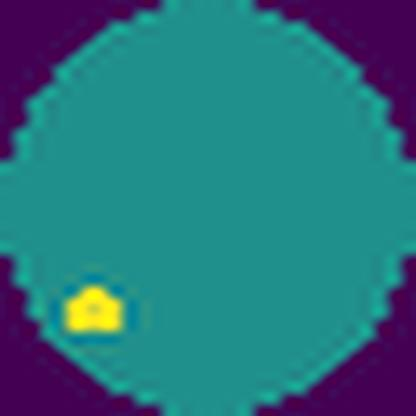Loc: (60, 282, 128, 338)
